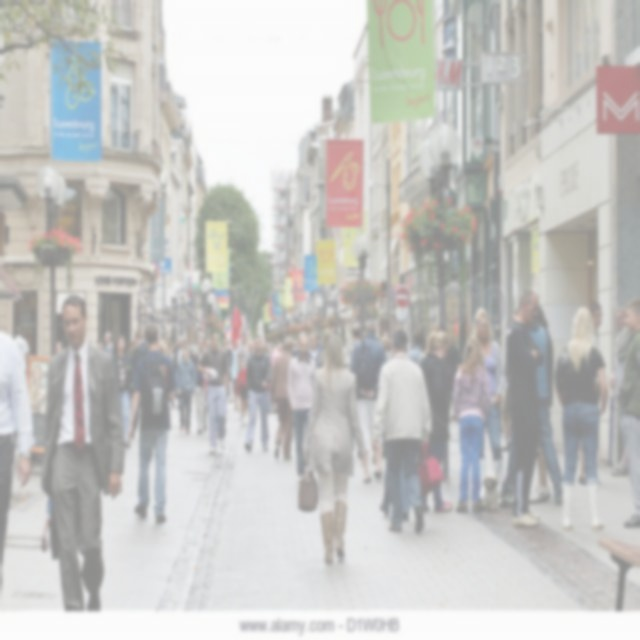pessoa: (37, 291, 128, 639), (295, 330, 370, 566), (370, 327, 434, 537), (0, 323, 46, 600), (553, 304, 609, 531), (126, 320, 178, 524), (502, 284, 543, 530), (464, 302, 507, 503), (526, 298, 564, 510), (449, 333, 493, 514), (345, 316, 387, 486), (416, 328, 454, 514), (285, 333, 322, 485), (527, 306, 555, 506), (617, 294, 639, 531), (577, 300, 603, 488), (194, 329, 230, 456), (608, 304, 630, 478), (268, 336, 298, 460), (242, 333, 272, 453), (111, 334, 134, 450), (130, 329, 149, 442), (175, 347, 197, 436), (262, 340, 285, 422), (191, 334, 209, 434), (220, 333, 240, 413), (236, 330, 251, 428), (446, 332, 461, 420), (340, 320, 364, 372), (398, 461, 412, 522), (406, 327, 428, 365), (377, 462, 391, 518), (307, 330, 327, 368), (158, 334, 176, 362), (173, 334, 185, 370), (96, 330, 114, 353), (380, 330, 393, 360), (168, 394, 181, 410), (127, 339, 137, 356), (52, 340, 63, 355), (292, 339, 299, 357), (205, 336, 212, 350)
